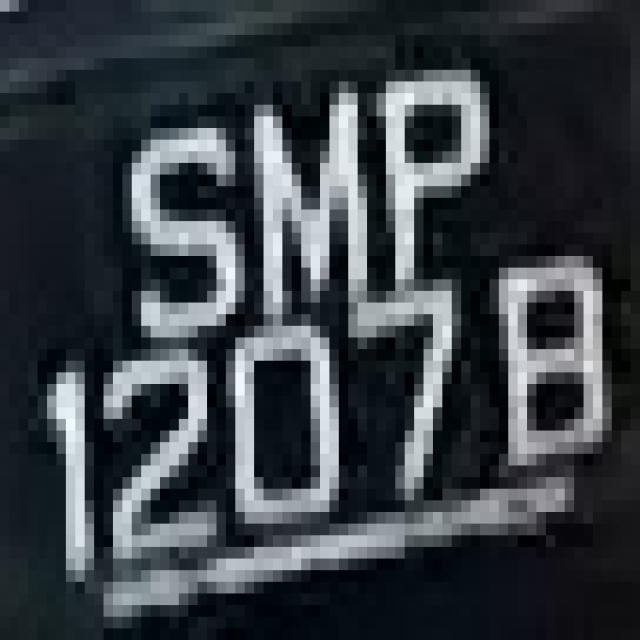0: (216, 303, 348, 512)
1: (38, 337, 113, 617)
2: (94, 326, 217, 605)
7: (320, 244, 471, 536)
B: (489, 256, 612, 512)
M: (226, 70, 386, 326)
P: (358, 58, 508, 279)
S: (104, 104, 254, 360)
